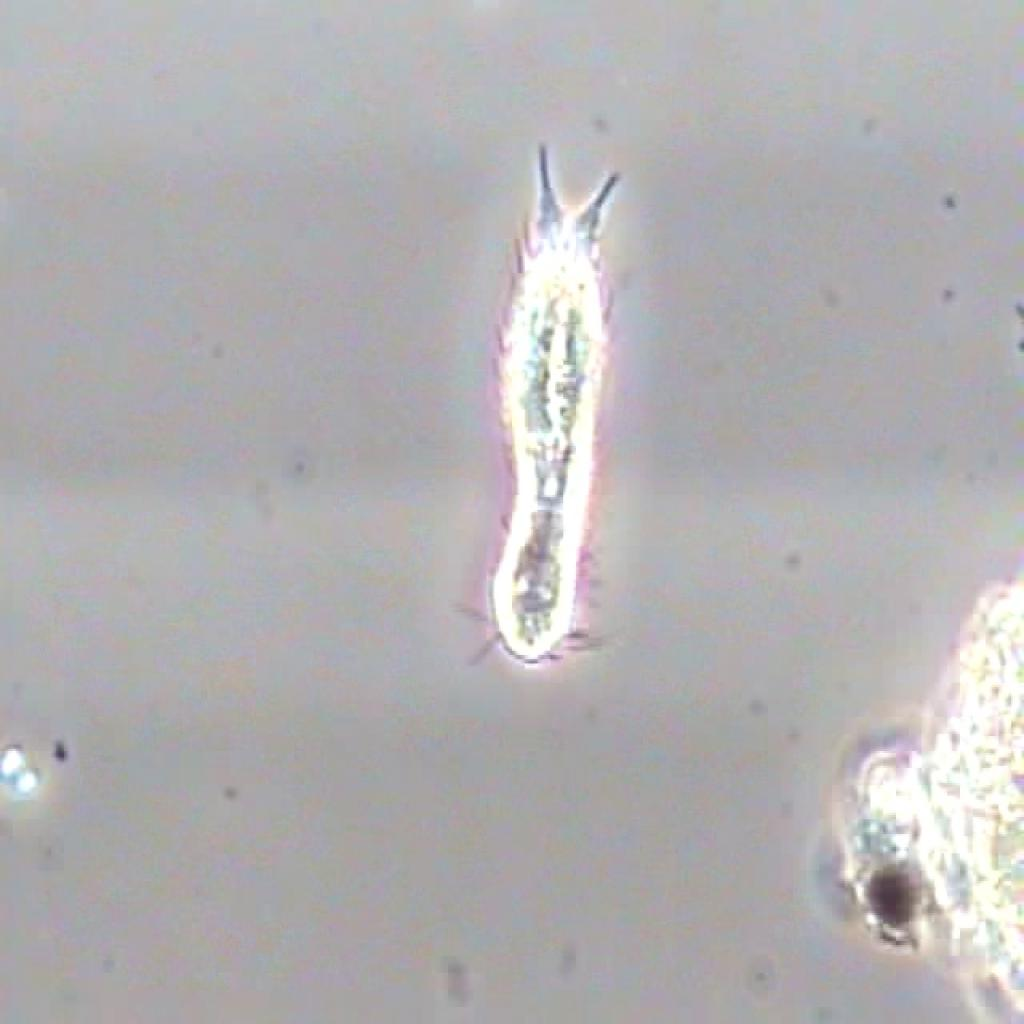Chaetonotus: (465, 130, 633, 670)
